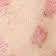plaque psoriasis: (31, 25, 48, 47), (0, 39, 15, 56), (0, 0, 9, 14), (49, 50, 56, 56)
